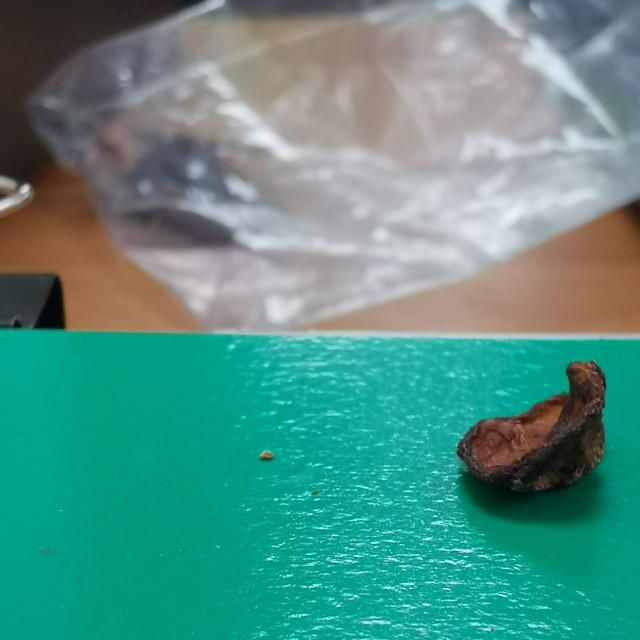Flat_cocoabeans: (348, 344, 640, 537)
